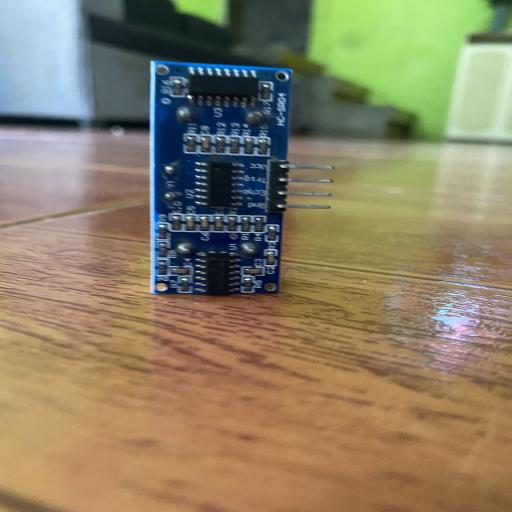Ultrasonic Sensor: (148, 58, 336, 297)
